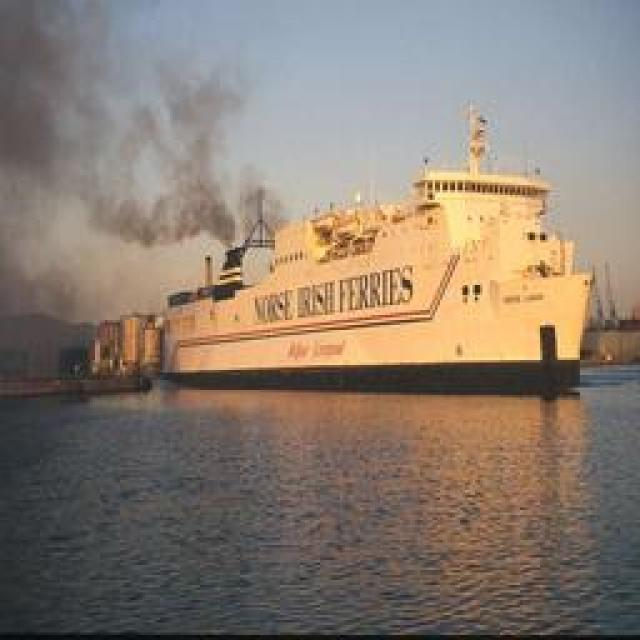CIV_Ship: (169, 172, 595, 389)
